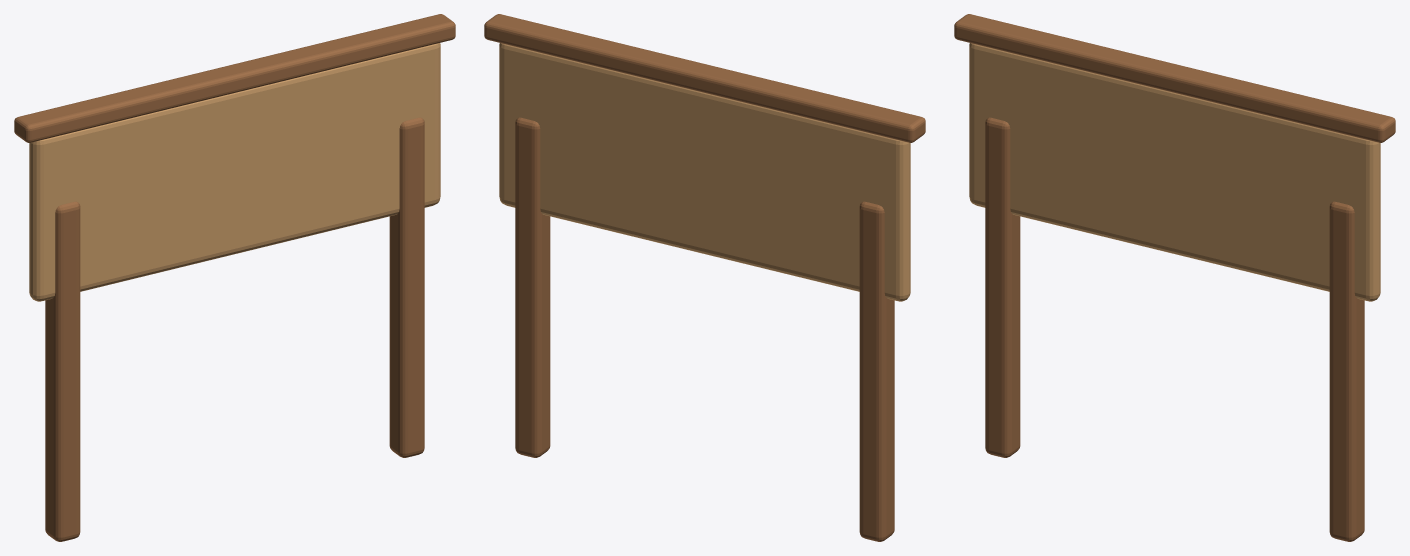
Rendered from signboard.glb.
3 renders of one model, left to right at view 1: azimuth 30°, elevation 25°; view 2: azimuth 150°, elevation 25°; view 3: azimuth 330°, elevation 25°, orthographic.
Visible parts, largest first — view 1: signboard; view 2: signboard; view 3: signboard.
Part boxes in pixels (box(x1,y1,x2,y2)): signboard: box(14, 14, 455, 541); signboard: box(484, 14, 925, 541); signboard: box(954, 14, 1395, 541).
Bounding box in the file's own units: 2 × 1.89 × 0.12.
